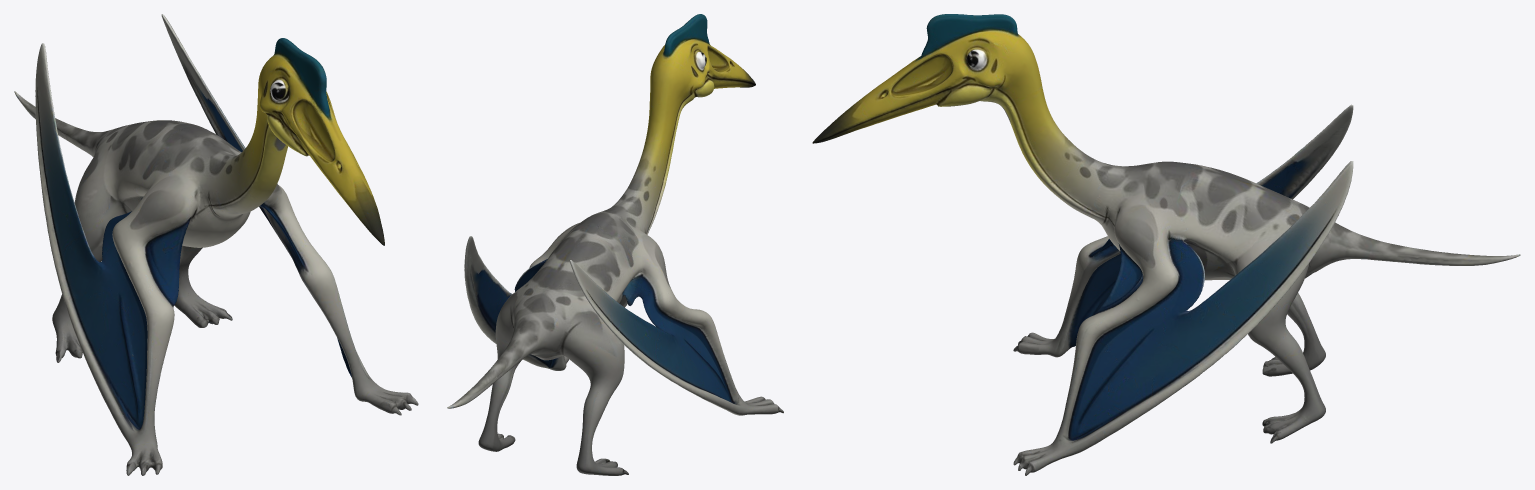
Rendered from Q-dino.glb.
The picture shows the model from 3 angles, left to right: view 1: azimuth 30°, elevation 25°; view 2: azimuth 150°, elevation 25°; view 3: azimuth 270°, elevation 25°; orthographic projection. The views are drawn at different scales.
Bounding box in the file's own units: 0.8651 × 1.17 × 1.9.
1 material, 1 textured.
